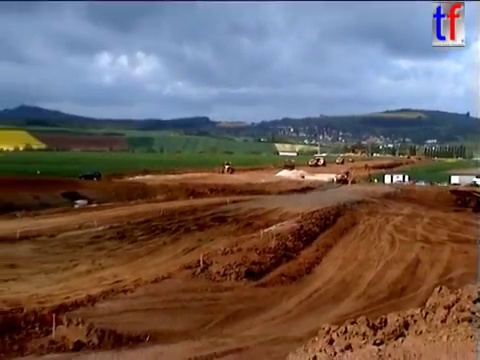crane: (352, 147, 368, 156)
excavator: (335, 165, 373, 186)
truck: (446, 182, 480, 209), (219, 159, 235, 176), (280, 157, 297, 172), (307, 156, 318, 167), (316, 156, 326, 167), (335, 156, 345, 165), (348, 156, 356, 164)
worker: (332, 175, 339, 187), (373, 176, 379, 185)
